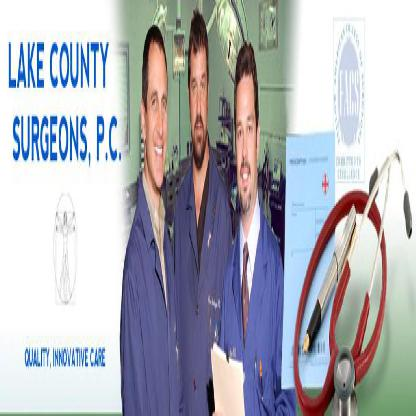face: (146, 40, 168, 187), (237, 74, 258, 214), (190, 44, 208, 164)
